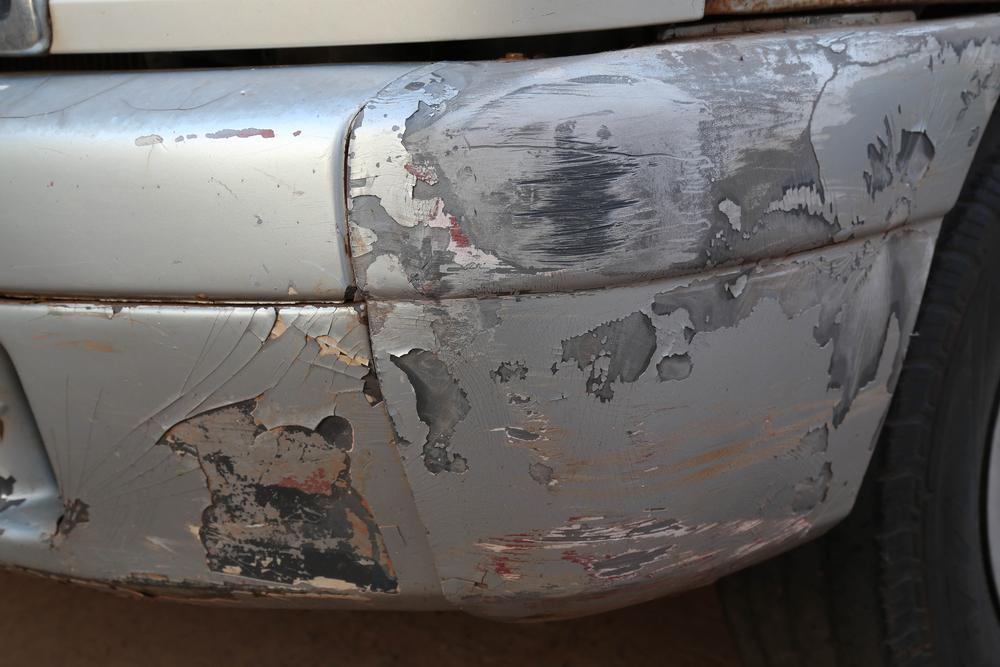scratch: (140, 17, 1000, 613)
